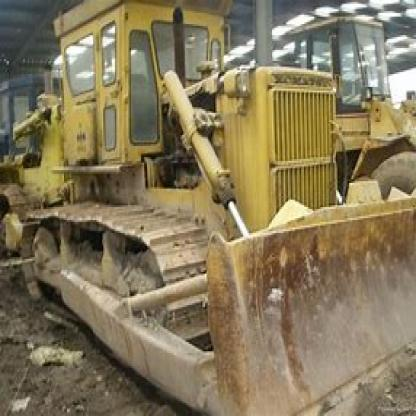bull_dozer/loader/grader: (19, 6, 414, 412)
